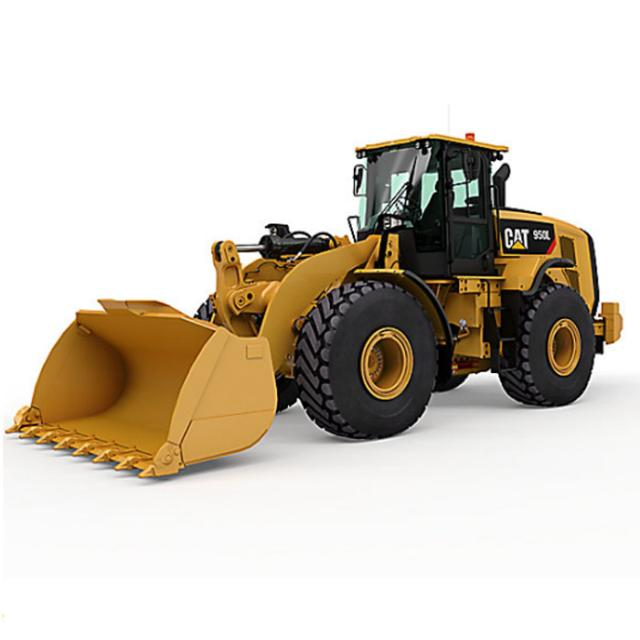buldozerpayloadergrader: (0, 119, 629, 491)
